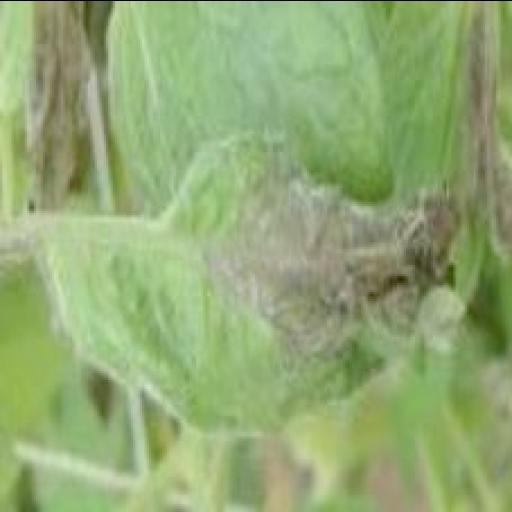disease_tomato: (34, 120, 474, 446)
